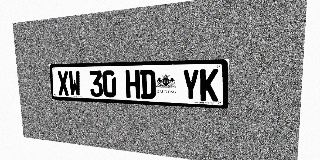0: (102, 70, 116, 98)
3: (89, 70, 103, 97)
D: (140, 70, 156, 99)
H: (125, 70, 140, 98)
K: (200, 69, 219, 101)
W: (68, 71, 81, 96)
X: (57, 71, 70, 96)
Y: (182, 69, 199, 101)
